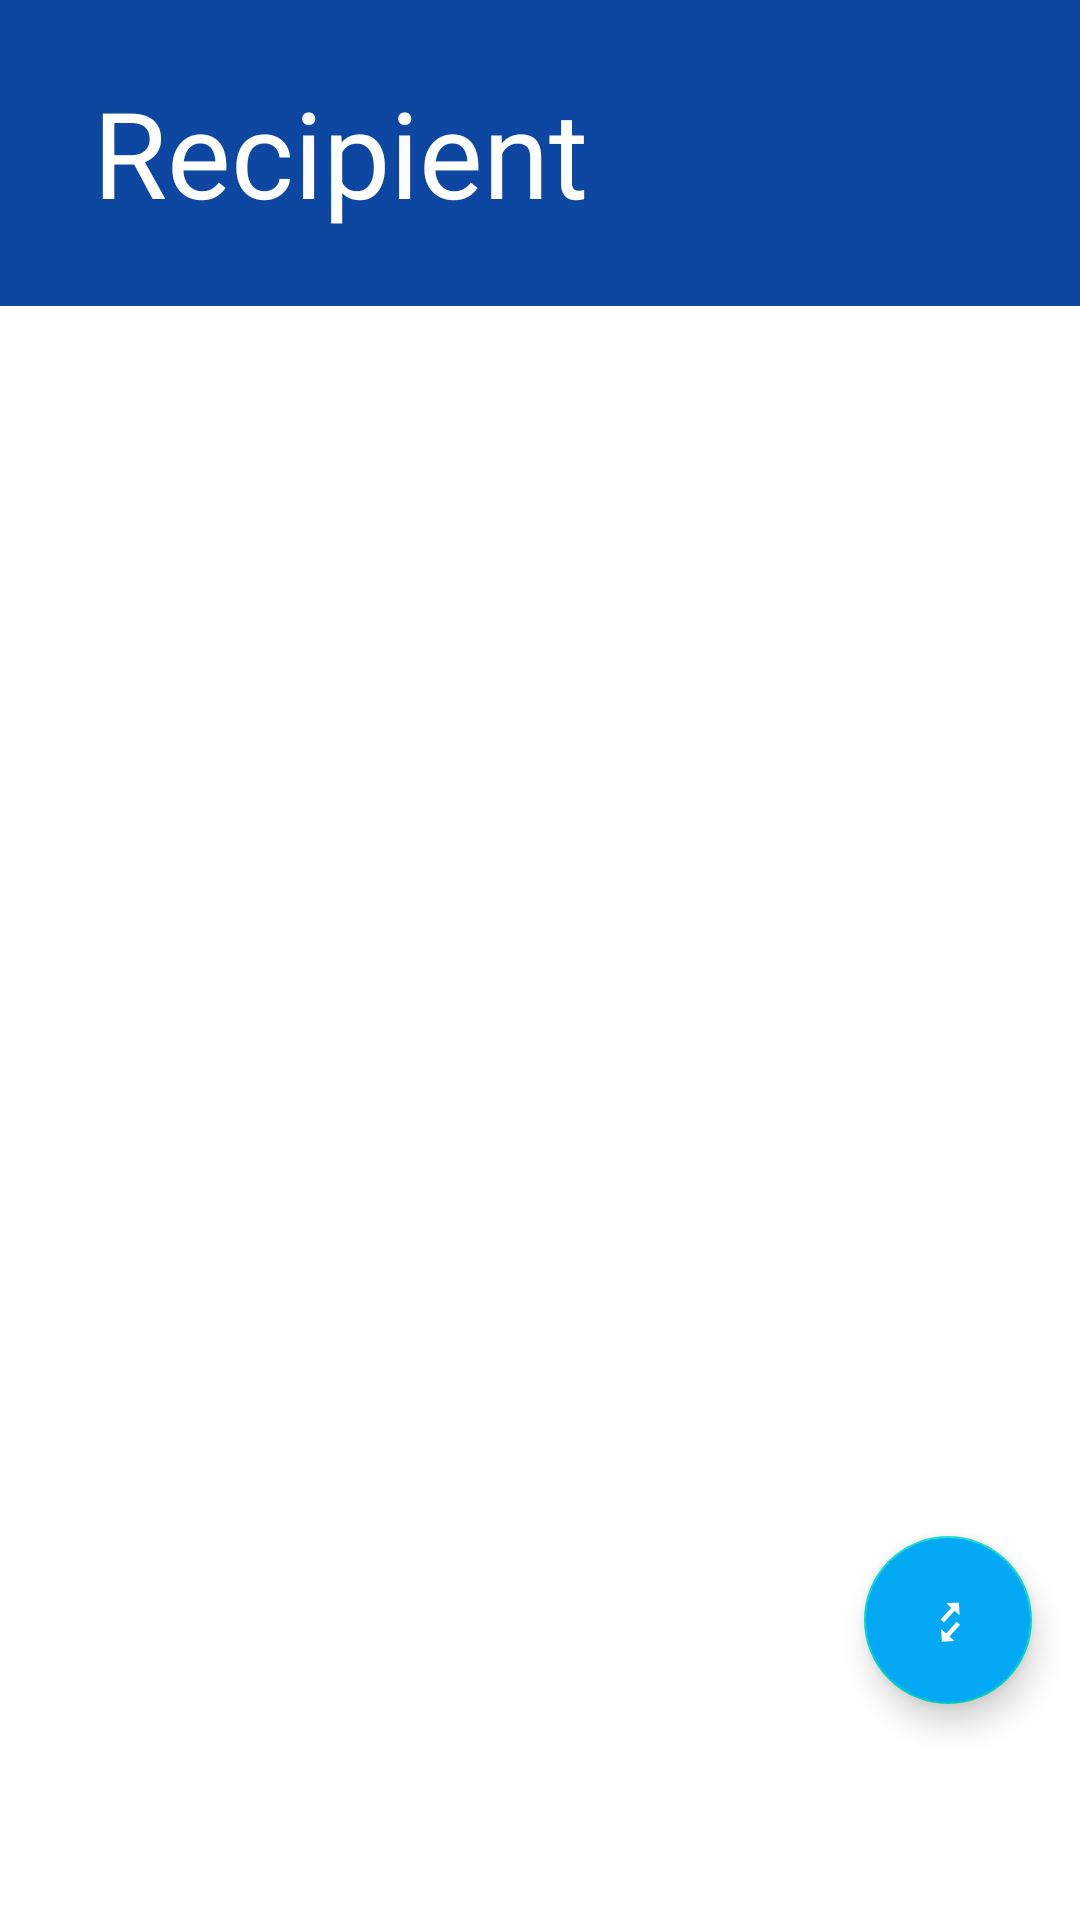

Icons on this 1080x1920 Android screen, each with its box as (x1, y1, x2, y2):
transfer: (864, 1536, 1032, 1704)
